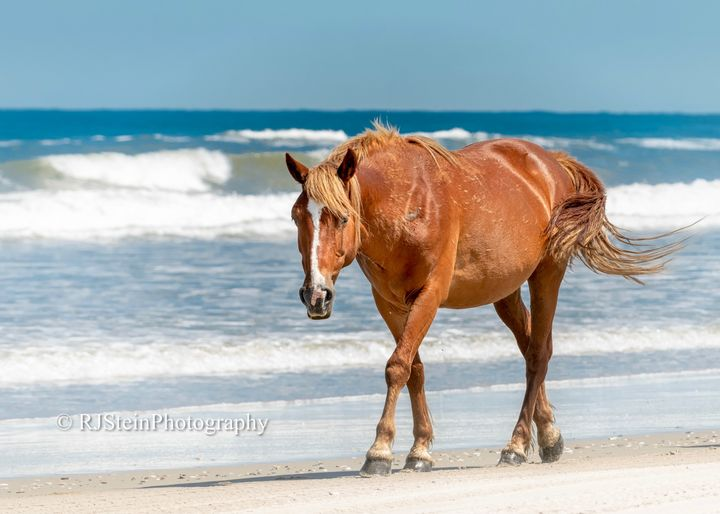Horse: (258, 94, 659, 483)
